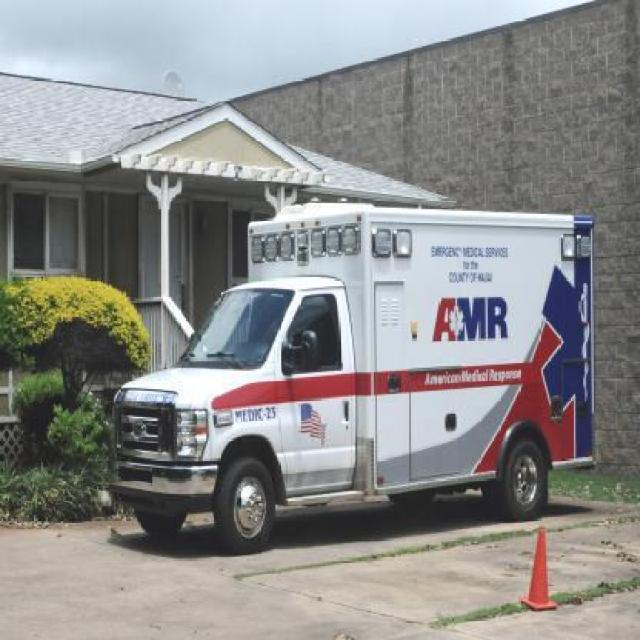Ambulance: (99, 178, 640, 522)
